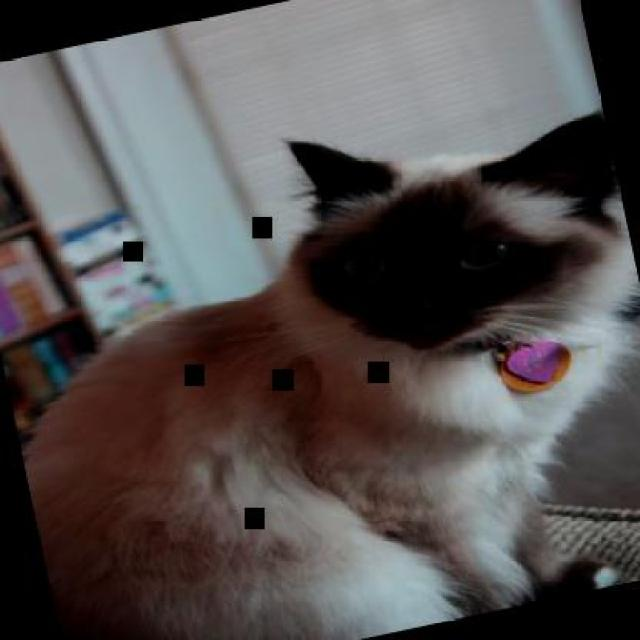cat: (0, 67, 638, 638)
